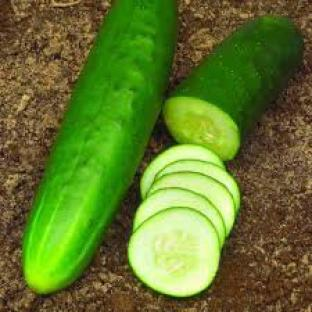Cucumber: (164, 16, 303, 159), (128, 208, 220, 296), (149, 172, 235, 235), (134, 188, 226, 246), (156, 160, 241, 212), (141, 145, 224, 198)
